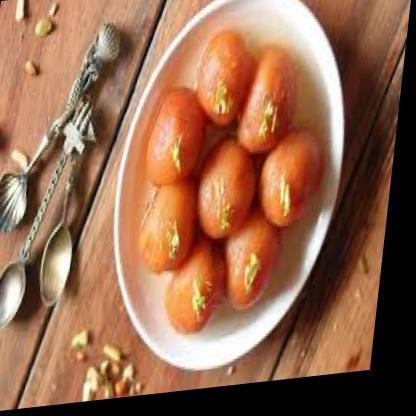gulab_jamun: (225, 204, 291, 317), (197, 137, 264, 246), (167, 236, 236, 340), (260, 133, 330, 234), (237, 52, 301, 161), (145, 88, 212, 191), (193, 34, 259, 136), (141, 179, 205, 277)
